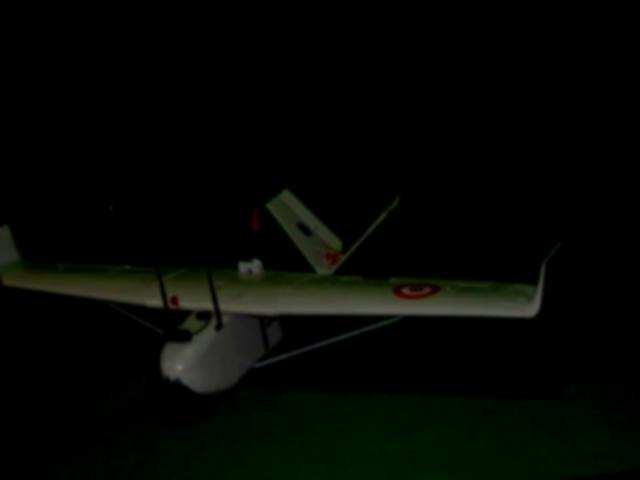iha: (0, 93, 597, 465)
